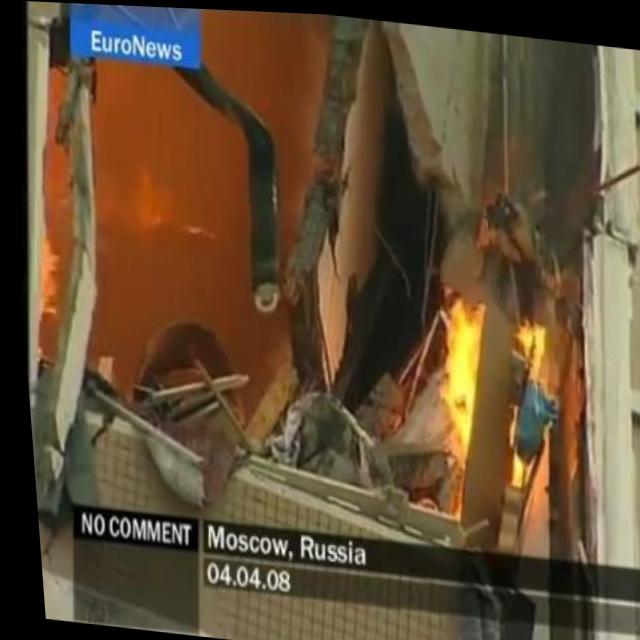fire: (420, 237, 568, 495), (31, 218, 62, 318)
